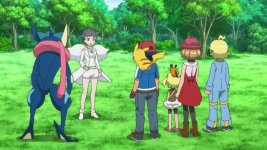greninja: (24, 24, 79, 145)
pikachu: (130, 42, 167, 71)
